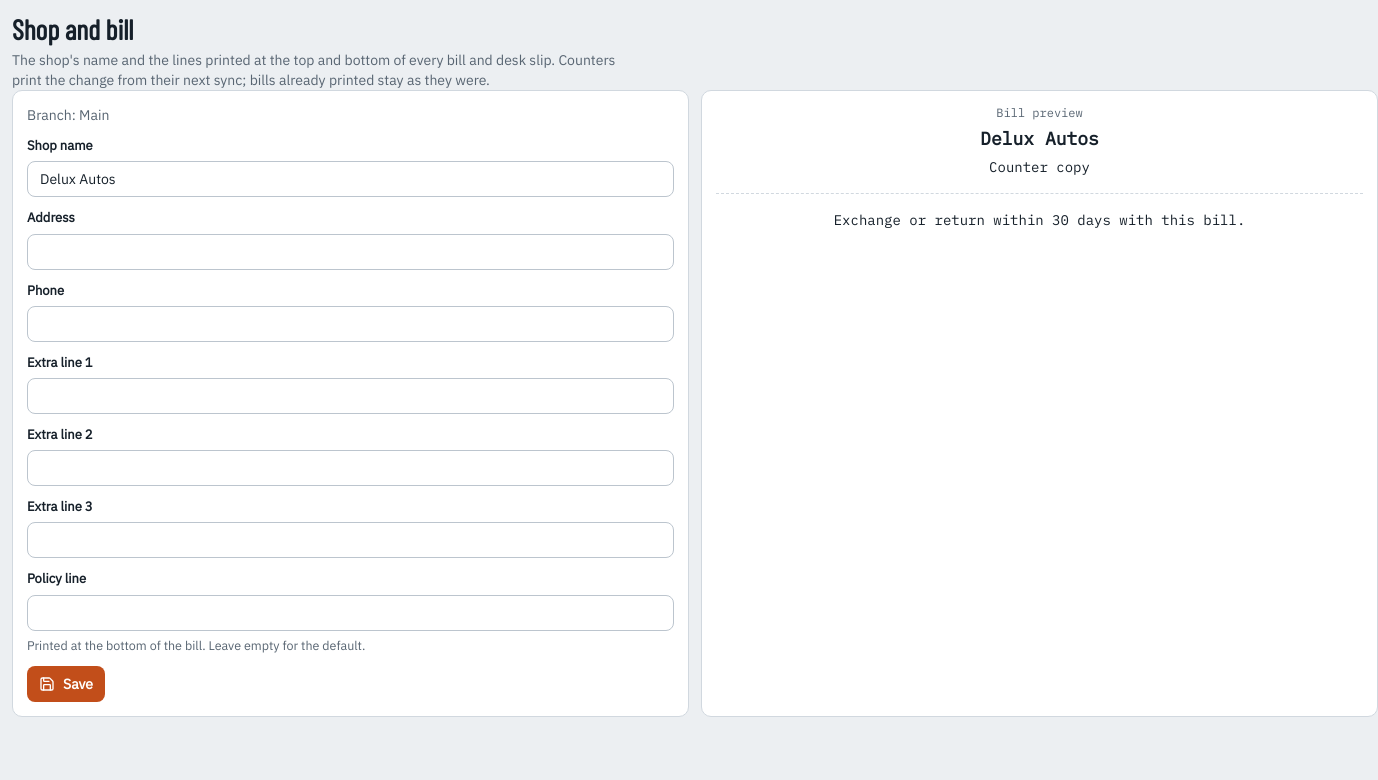
Scenario: the shop and bill screen › saves everything in one request, blank extra lines dropped, and says so
Replace the text in the field labelled "Shop name" with "Delux City Auto Corner" at (350,179), box [27,161,674,197]
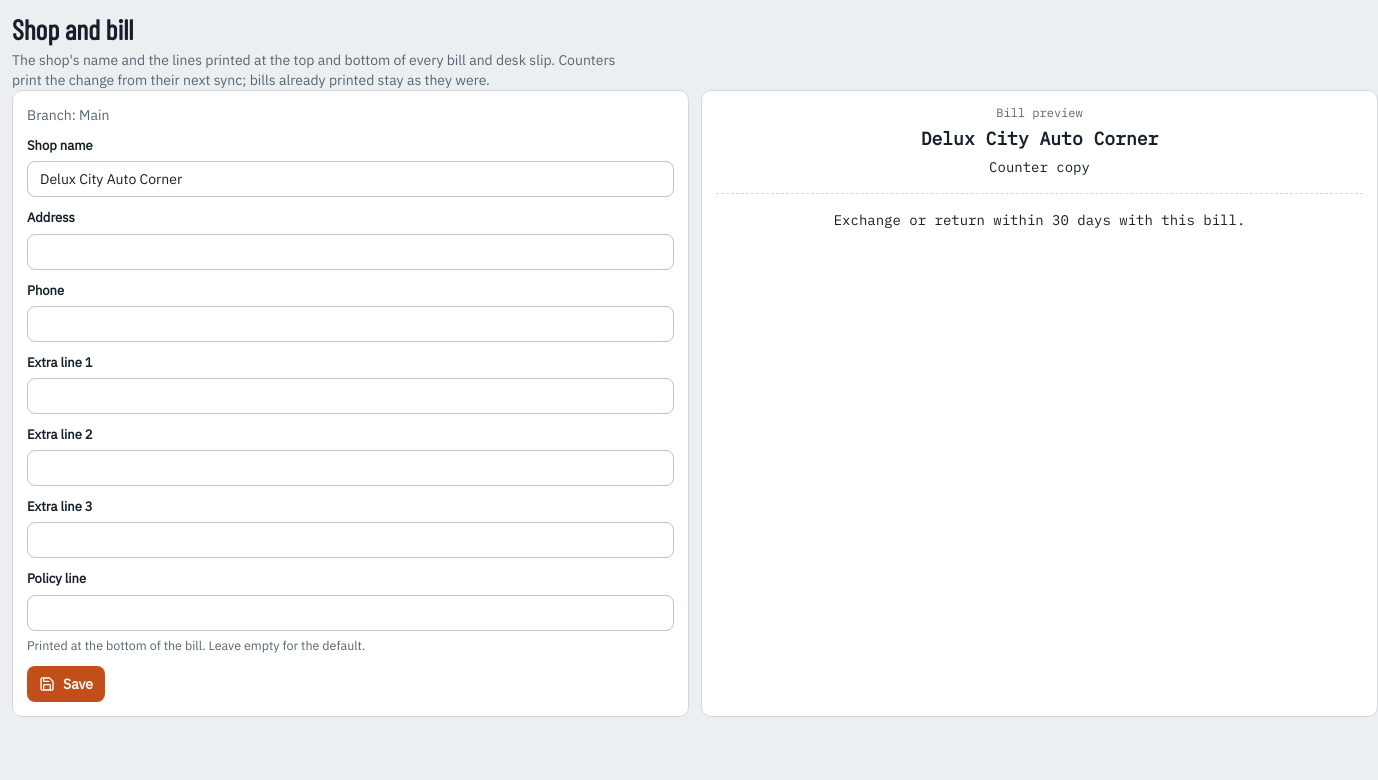
Type "Wholesale and retail" into the field labelled "Extra line 2".
click(350, 468); type("Wholesale and retail")  # box [27,450,674,486]
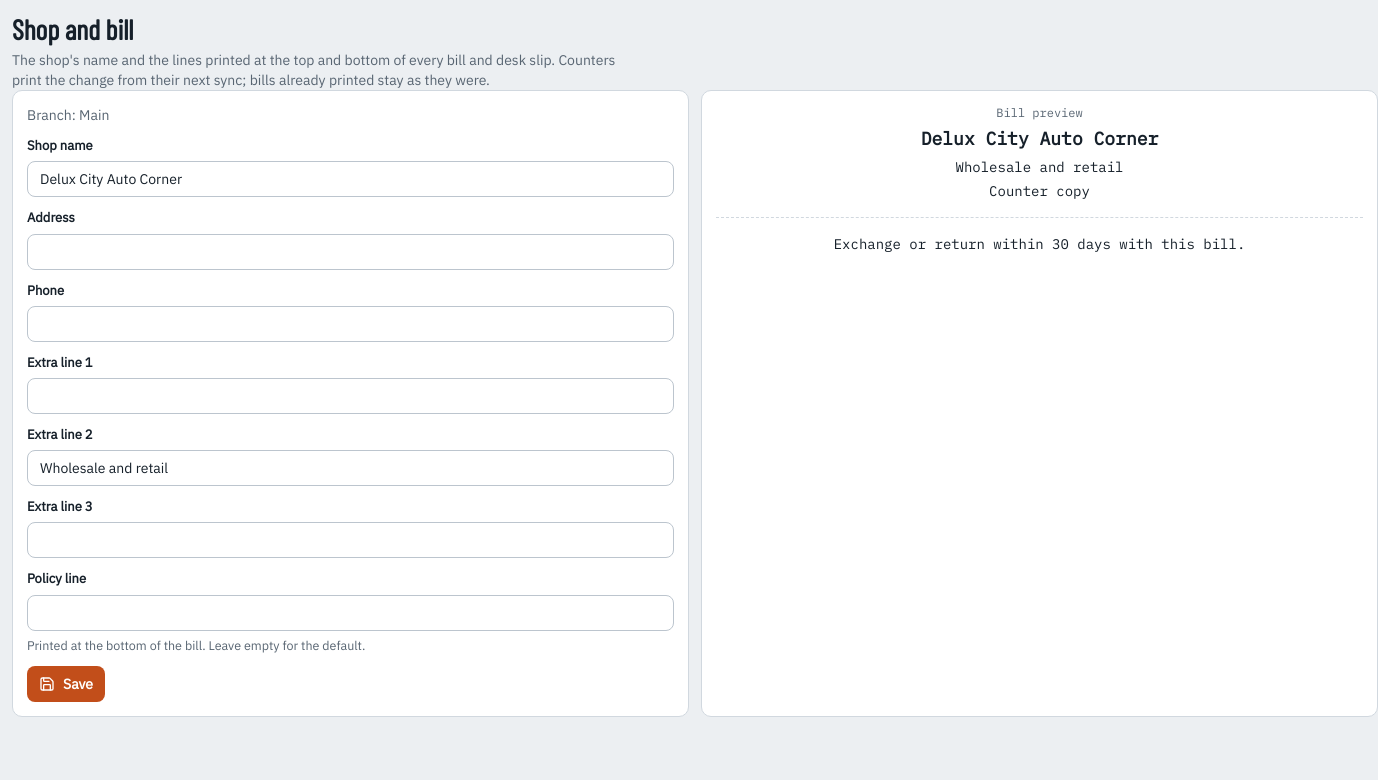
Click the button "Save".
click(66, 684)  # box [27,666,105,702]
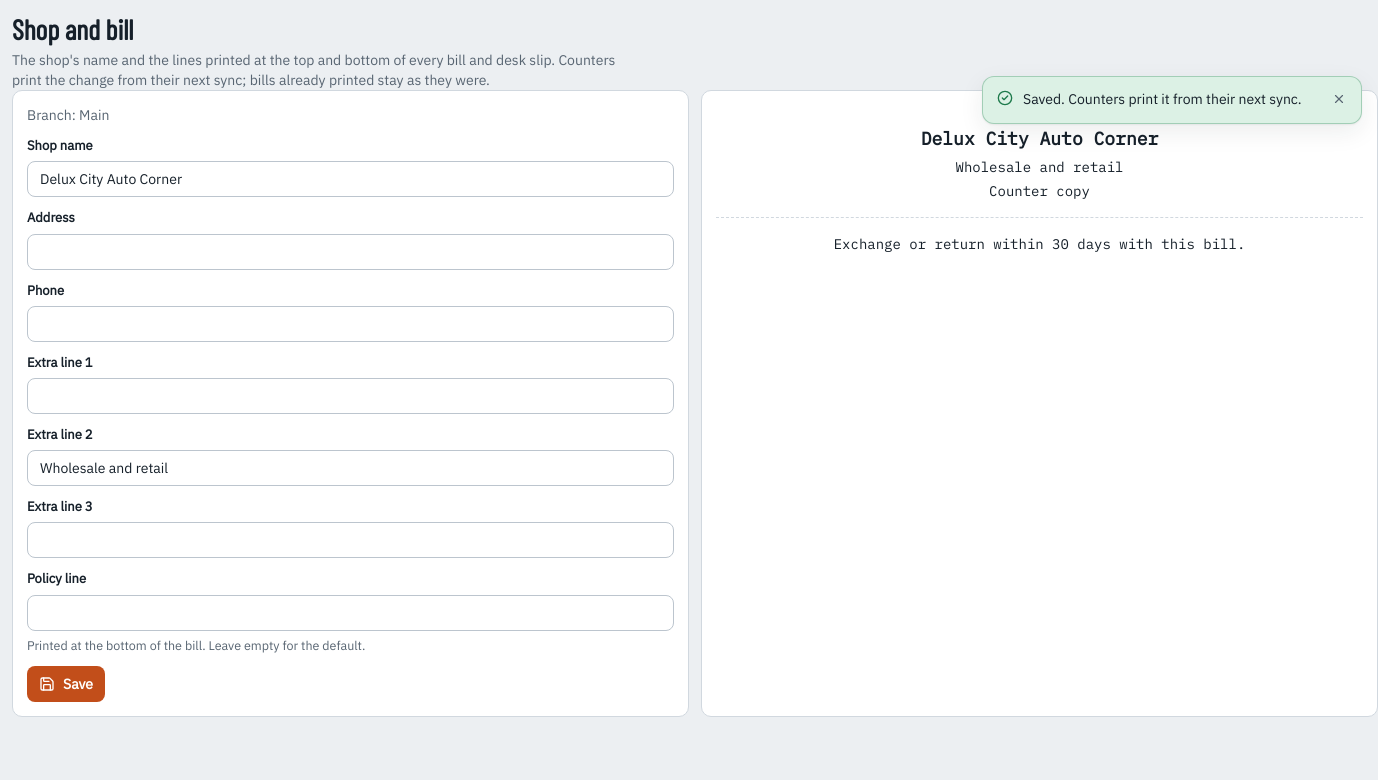
expect the message reads "Saved. Counters print it from their next sync.": met, box [1023,90,1302,108]
